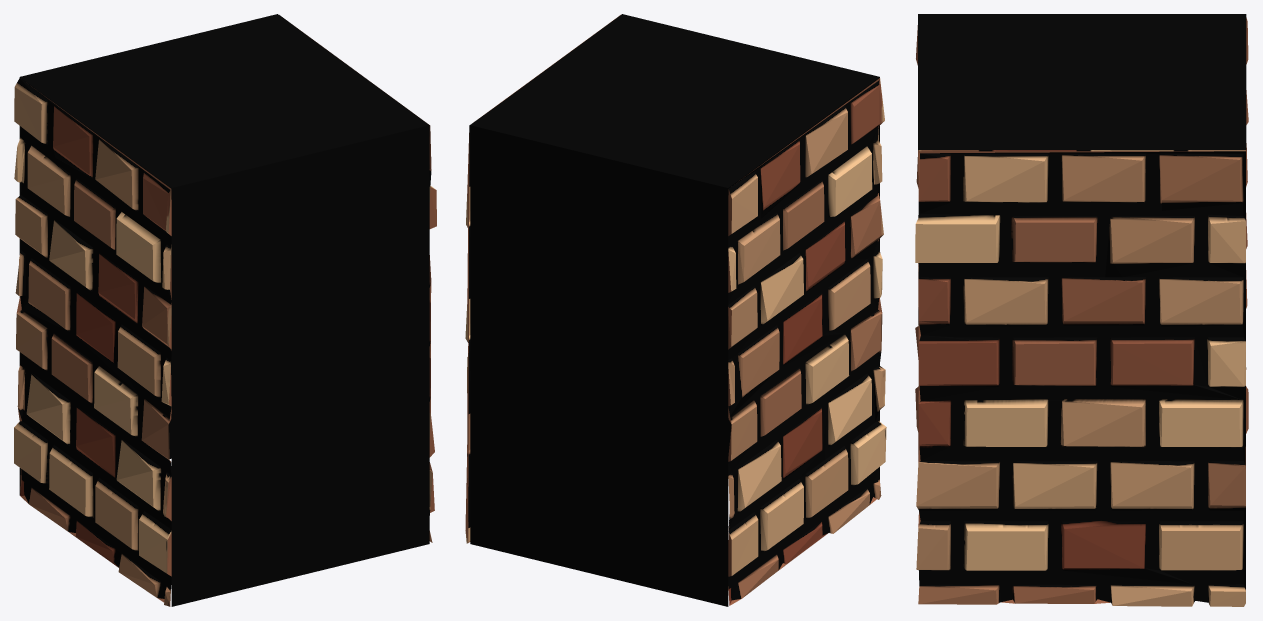
The model's file is BrickWall2Side.glb.
The picture shows the model from 3 angles, left to right: view 1: azimuth 30°, elevation 25°; view 2: azimuth 150°, elevation 25°; view 3: azimuth 270°, elevation 25°; orthographic projection. The views are drawn at different scales.
Parts seen in each view (by area): view 1: 2SideBrickWall; view 2: 2SideBrickWall; view 3: 2SideBrickWall.
Part boxes in pixels (x1,y1,x2,y2): 2SideBrickWall: (14, 14, 436, 606); 2SideBrickWall: (465, 14, 886, 606); 2SideBrickWall: (915, 14, 1248, 606).
Size of the model in its own units: 2.05 by 3.05 by 2.03.
Materials: 1 (1 with a texture image).
